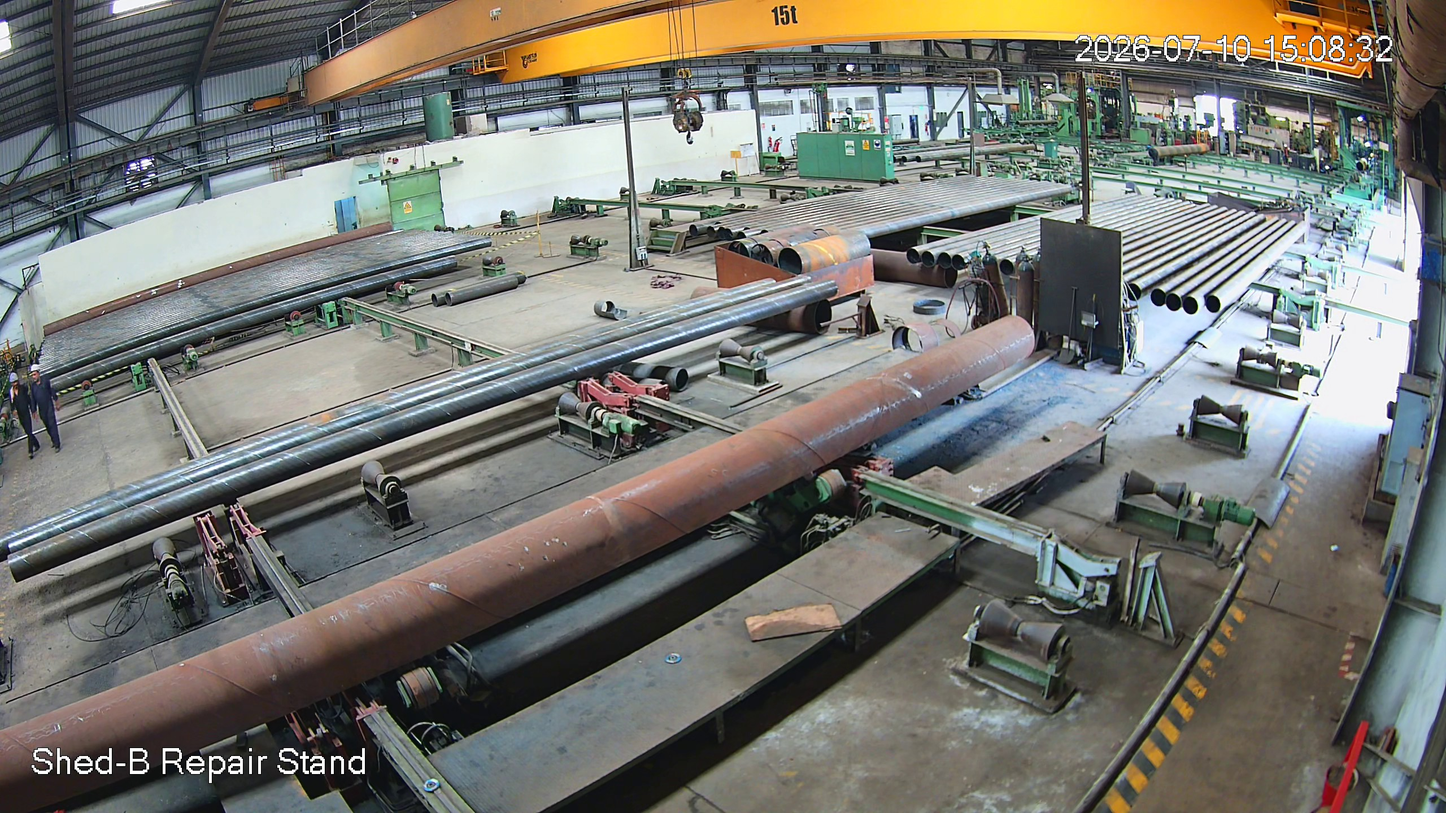Helmet: (4, 371, 29, 400), (27, 363, 52, 391)
Person: (26, 367, 65, 454), (1, 372, 38, 461)
